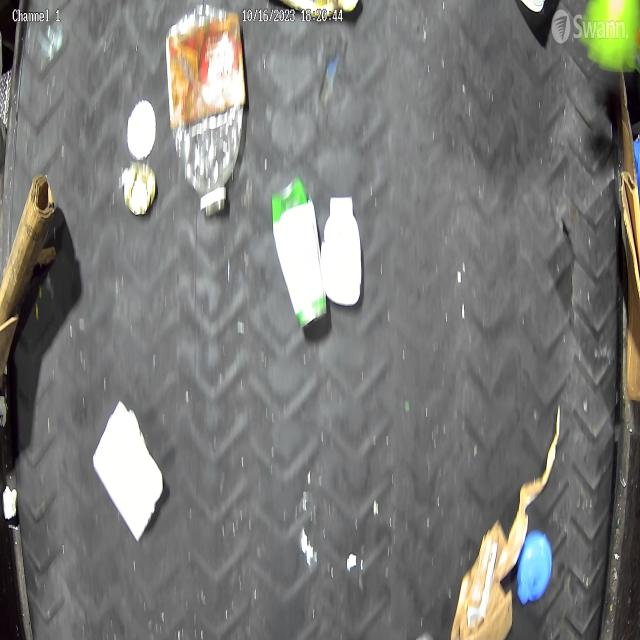can: (124, 163, 156, 216)
plastic_bottle: (166, 5, 246, 220)
